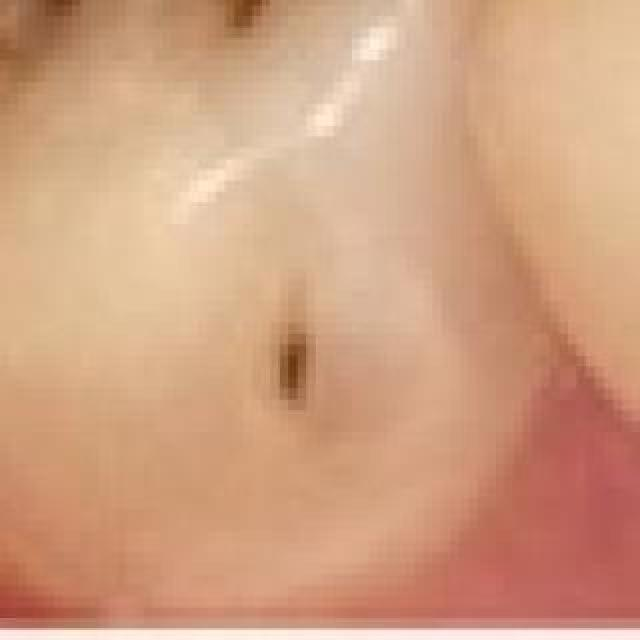cavities: (0, 0, 594, 618)
